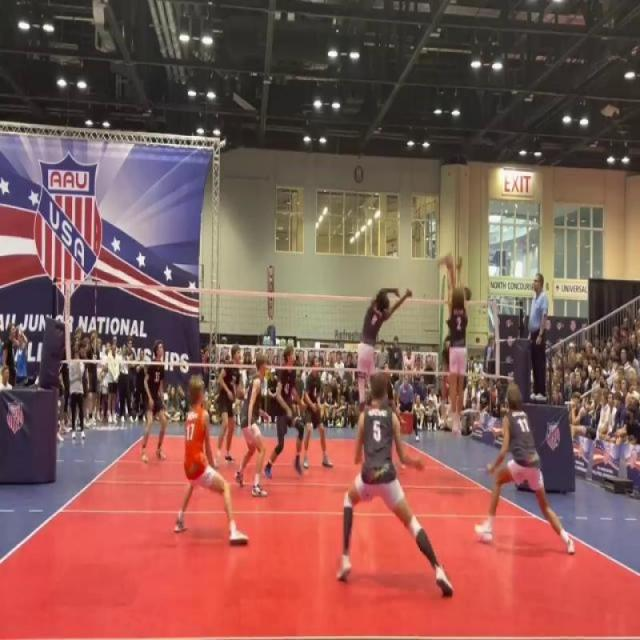volleyball: (434, 248, 450, 268)
